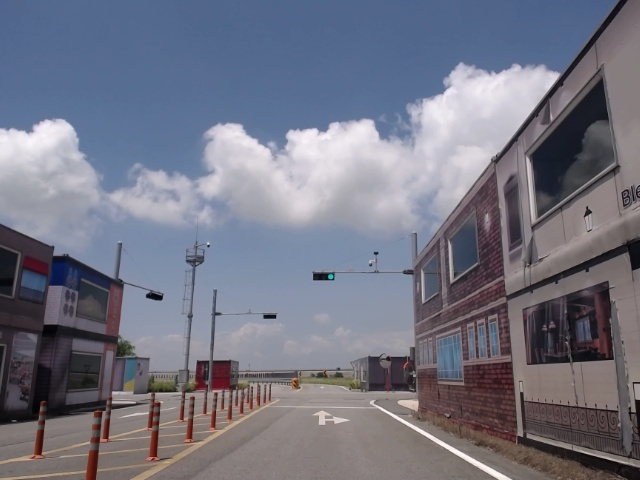green_3: (312, 272, 334, 280)
